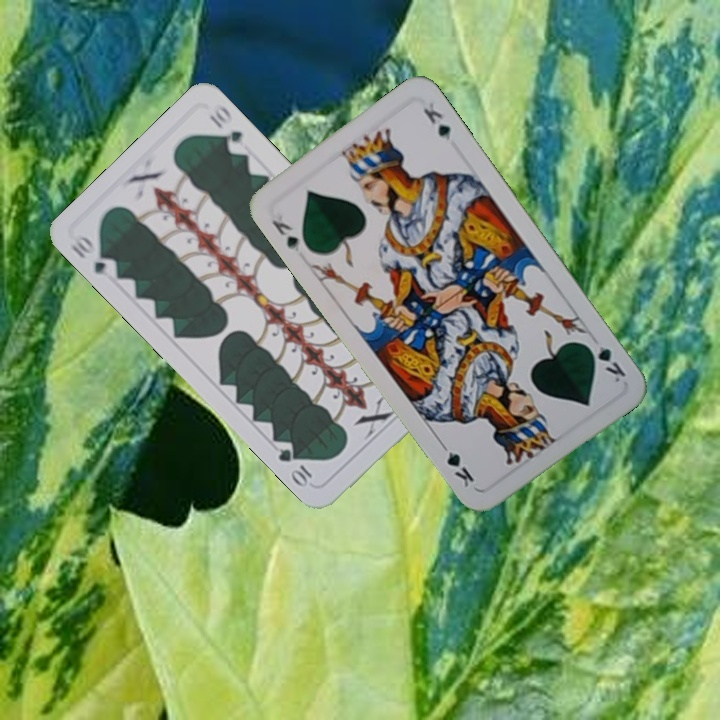G10: (66, 231, 121, 282)
GK: (581, 339, 629, 385), (267, 216, 302, 254)
